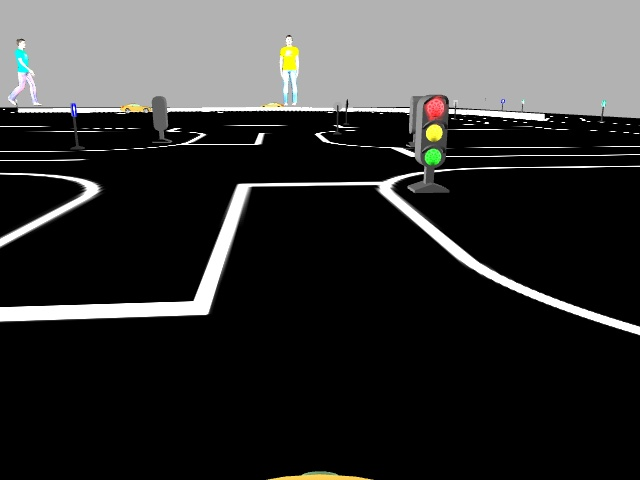TrafficLight: (414, 93, 447, 167)
